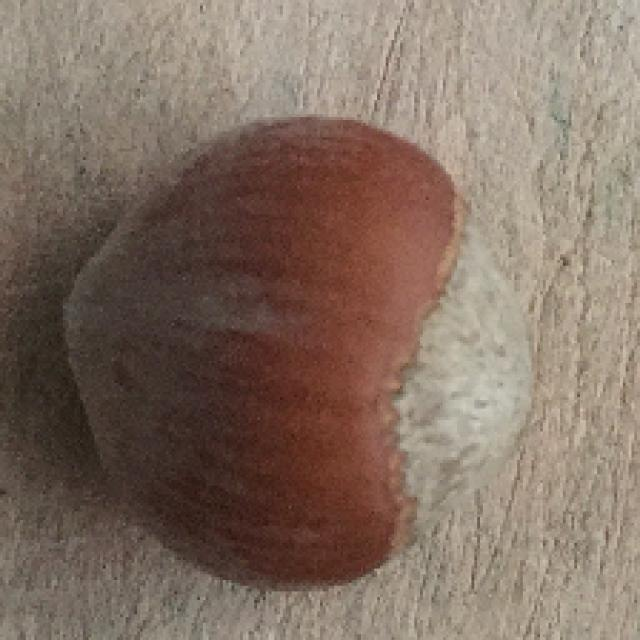qualityHazelnut: (66, 118, 538, 599)
